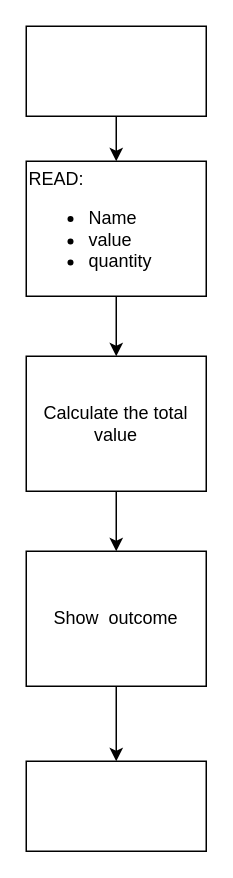
Image size: 233x878. Some labels were removed from this diagram. Each missing label, with the centre of its shape:
"Finish" belongs at [115,805].
"START" belongs at [115,70].
